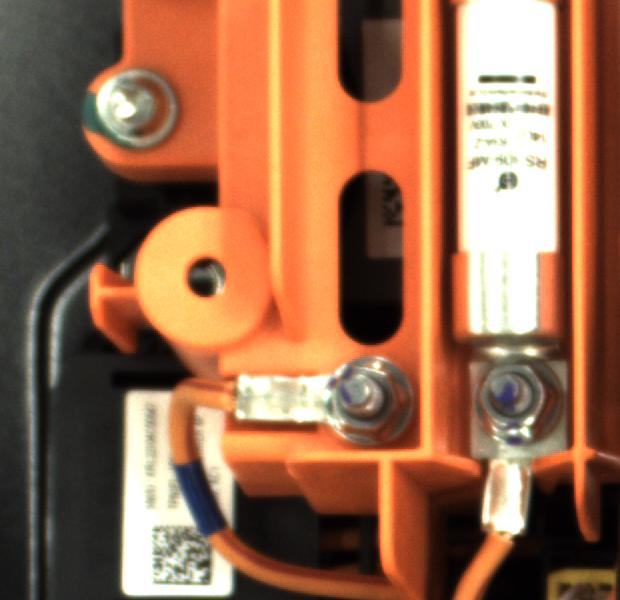screw_m: (83, 66, 202, 154)
screw_s: (467, 343, 574, 456), (315, 343, 406, 441)
